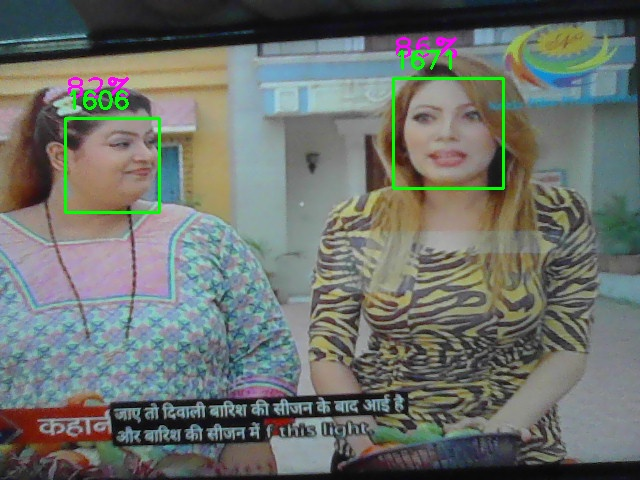fake: (393, 78, 504, 189), (65, 118, 160, 213)
